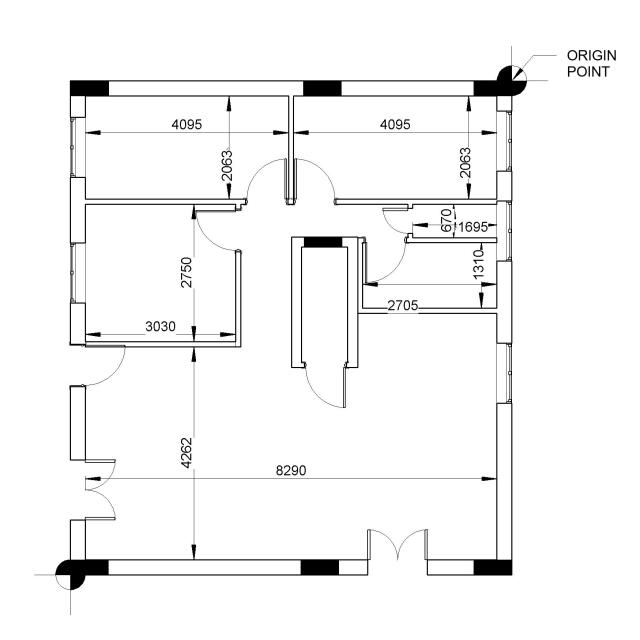Column: (473, 80, 512, 97), (301, 559, 339, 576), (70, 80, 109, 96), (303, 80, 342, 96), (474, 560, 513, 576), (70, 560, 109, 575), (304, 236, 342, 248)
Door: (300, 358, 352, 411), (68, 344, 128, 387), (192, 207, 242, 254), (294, 158, 339, 207), (364, 236, 409, 284), (244, 157, 288, 206), (381, 206, 413, 235)
Double-Door: (363, 524, 433, 570), (75, 456, 119, 524)
Window: (60, 238, 91, 312), (66, 113, 88, 183), (494, 106, 515, 177), (495, 339, 514, 409), (495, 196, 514, 266)
